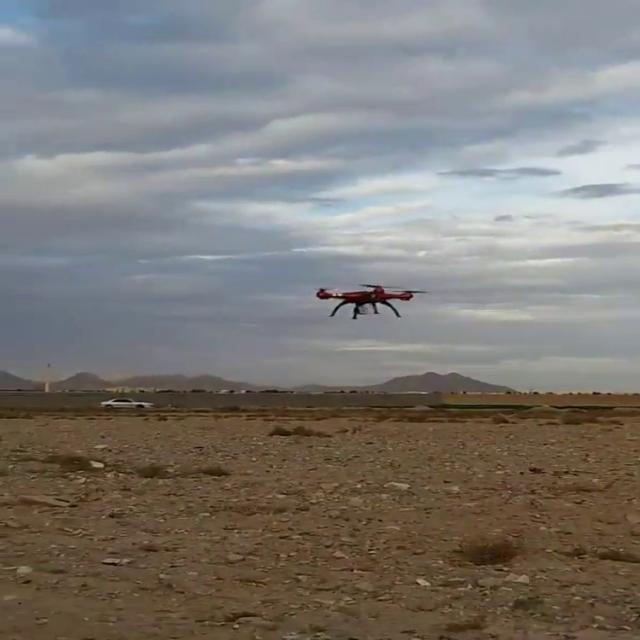drone: (311, 280, 430, 322)
